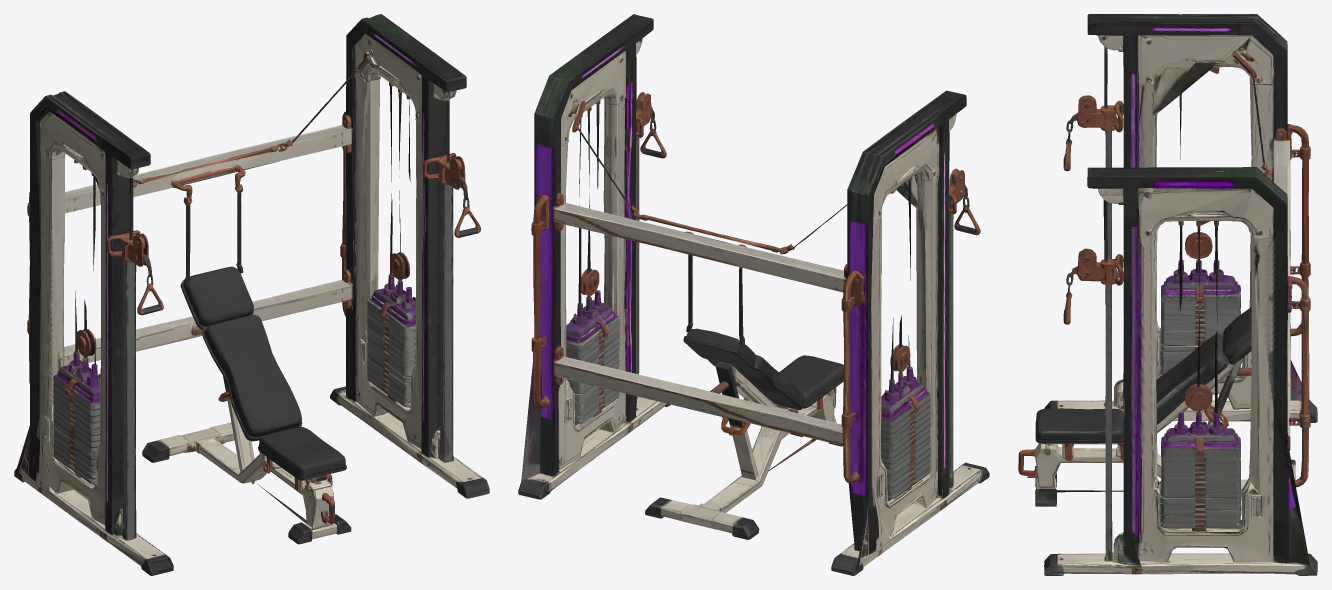
File: resistance-bench.glb
3 views of the same model, side by side, from view 1: azimuth 30°, elevation 25°; view 2: azimuth 150°, elevation 25°; view 3: azimuth 270°, elevation 25° (orthographic).
Visible parts, largest first — view 1: resistance_bench_000; view 2: resistance_bench_000; view 3: resistance_bench_000.
Boxes of the visible parts, box(x1,y1,x2,y2) form: resistance_bench_000: box(14, 14, 489, 575); resistance_bench_000: box(518, 14, 989, 575); resistance_bench_000: box(1018, 14, 1317, 575).
Size of the model in its own units: 1.62 by 1.77 by 1.2.
1 material, 1 textured.
